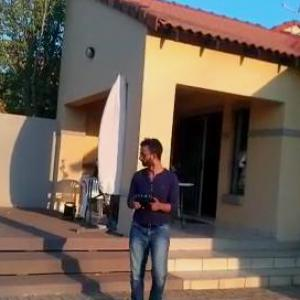follow: (120, 132, 184, 299)
